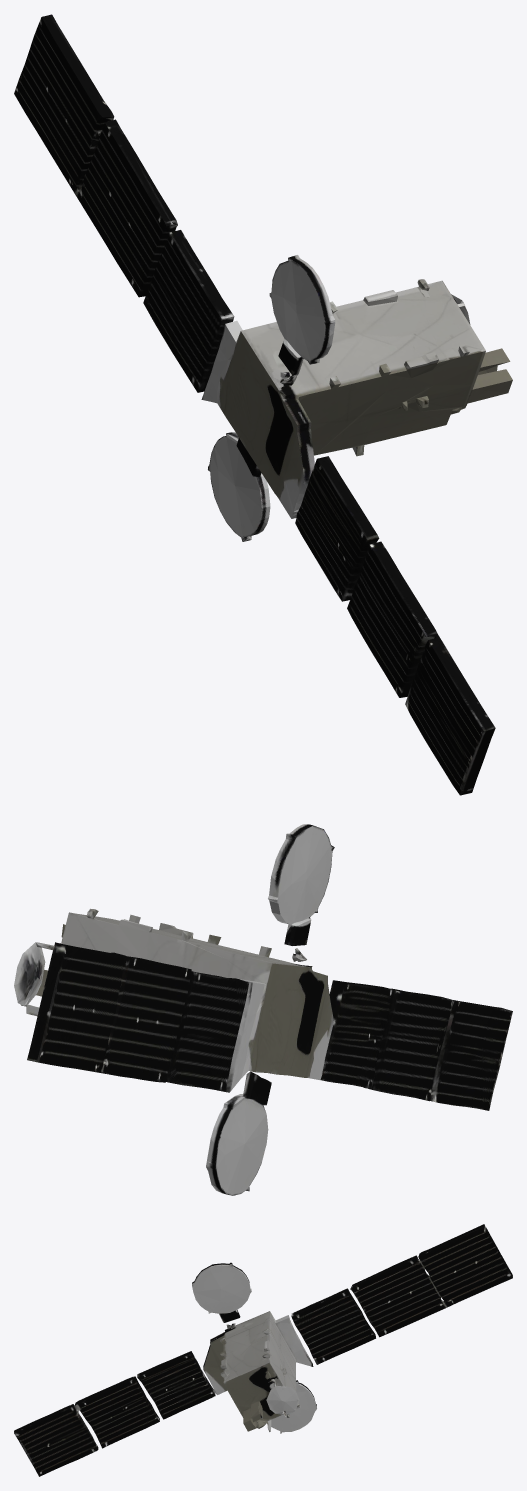
The model's file is turksat-3B.glb.
3 renders of one model, top to bottom at view 1: azimuth 30°, elevation 25°; view 2: azimuth 150°, elevation 25°; view 3: azimuth 270°, elevation 25°, orthographic. The views are drawn at different scales.
Visible parts, largest first — view 1: tripo_node_32c4b476-a6e9-4754-9d36-78130c1e80db; view 2: tripo_node_32c4b476-a6e9-4754-9d36-78130c1e80db; view 3: tripo_node_32c4b476-a6e9-4754-9d36-78130c1e80db.
Boxes of the visible parts, x1,y1,x2,y2 form: tripo_node_32c4b476-a6e9-4754-9d36-78130c1e80db: [14, 14, 512, 795]; tripo_node_32c4b476-a6e9-4754-9d36-78130c1e80db: [14, 824, 512, 1195]; tripo_node_32c4b476-a6e9-4754-9d36-78130c1e80db: [14, 1224, 512, 1476].
Bounding box in the file's own units: 0.3091 × 0.5531 × 1.
1 material, 1 textured.
